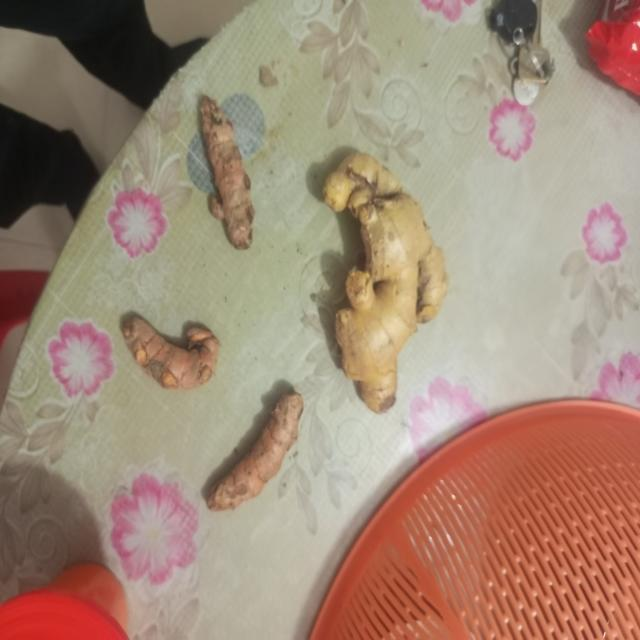ginger: (331, 158, 442, 396), (210, 394, 308, 508), (208, 93, 263, 250), (122, 301, 218, 390)
